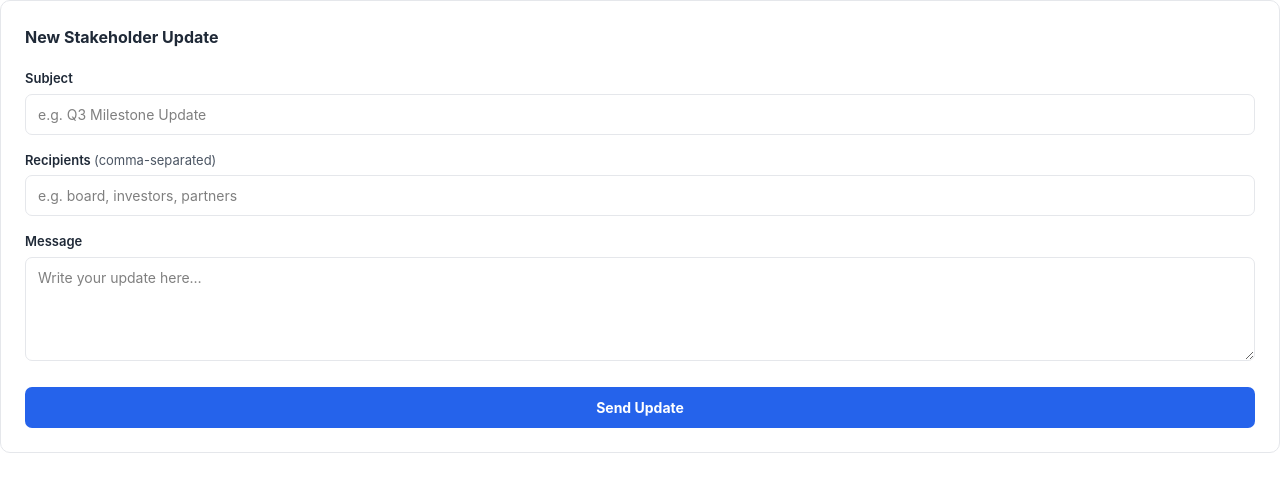
Scenario: Compose — input validation › shows a recipients error when the recipients field is empty
Type "hi" into the field with test id "input-subject" at [640, 114], box [25,94,1255,134]
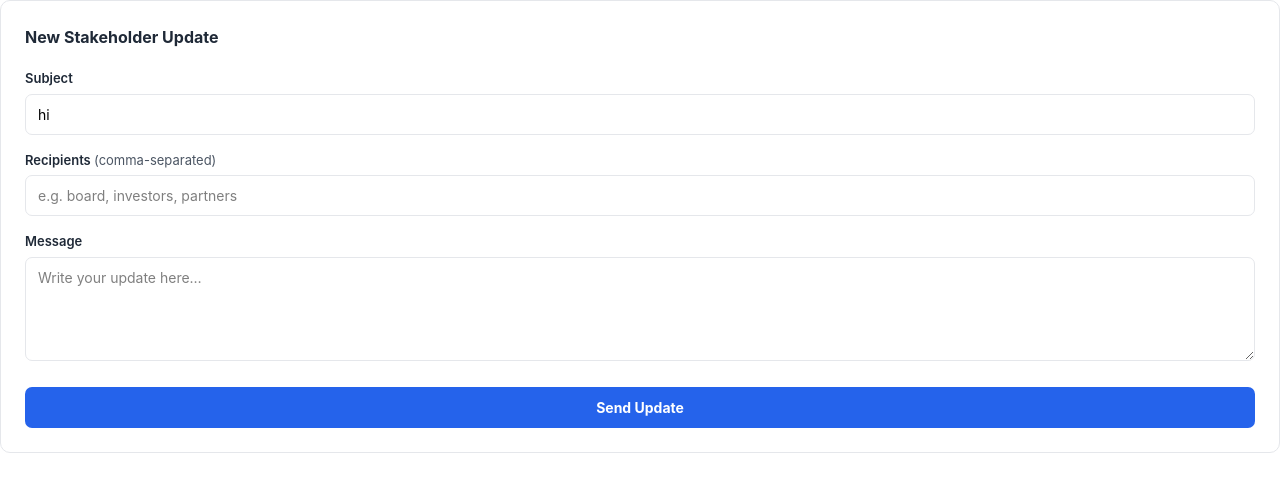
Type "body" into the text box with test id "input-content" at [640, 308], box [25,256,1255,360]
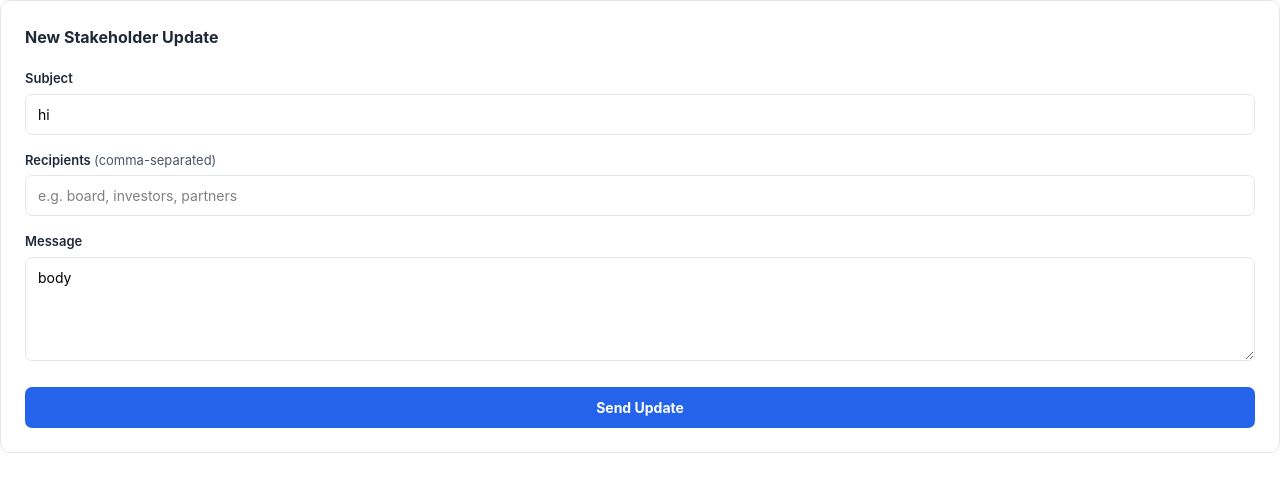
Click the button with test id "btn-send" at [640, 407], box [25,386,1255,428]
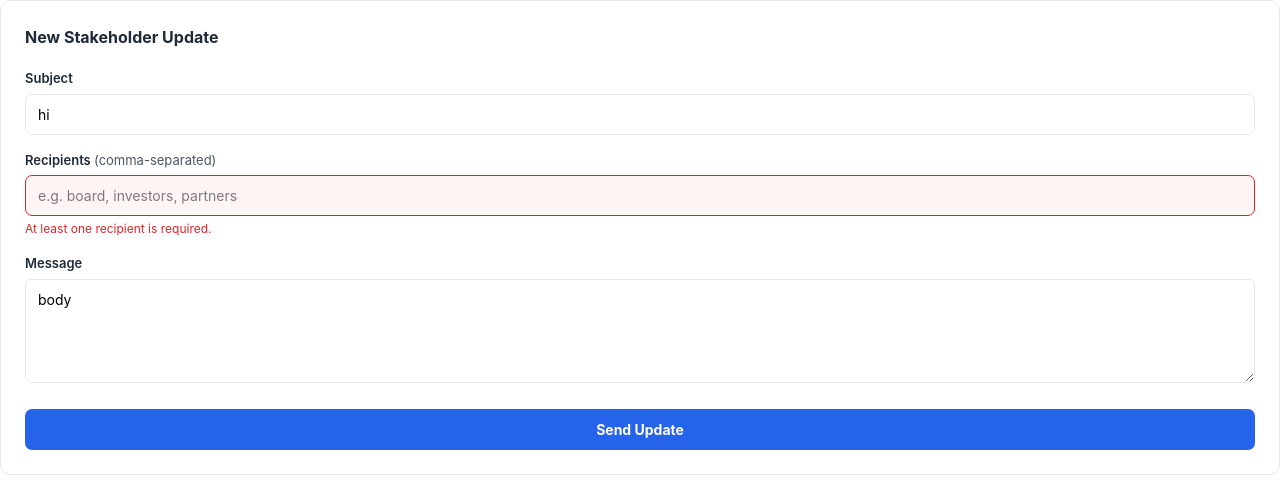
Result: the text "At least one recipient is required." is shown at [25,221,212,236]
